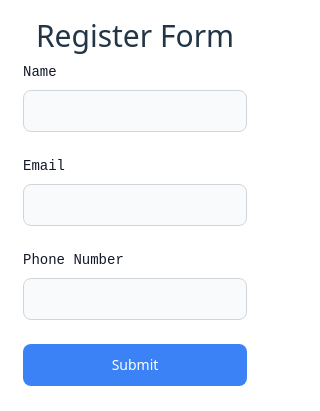
it: Register Form Component › show validation phone number errors
Type "Johnny D" into the field labelled "Name" at (135, 111), box [23,90,247,132]
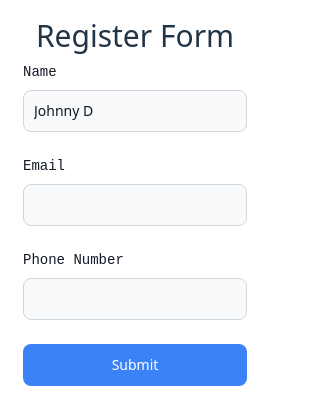
Type "johndoe@gmail.com" into the field labelled "Email" at (135, 205), box [23,184,247,226]
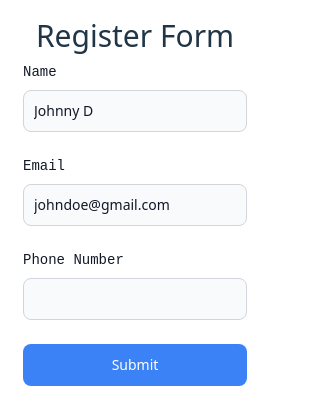
Type "09876543213" into the field labelled "Phone Number" at (135, 299), box [23,278,247,320]
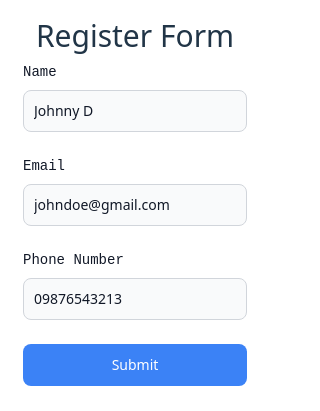
Click the button "Submit" at (135, 365), box [23,344,247,386]
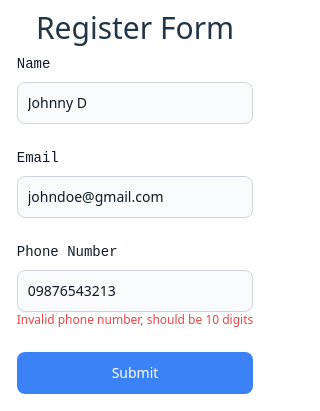
Now the text "Invalid phone number, should be 10 digits" is shown, box [17,312,253,328]
